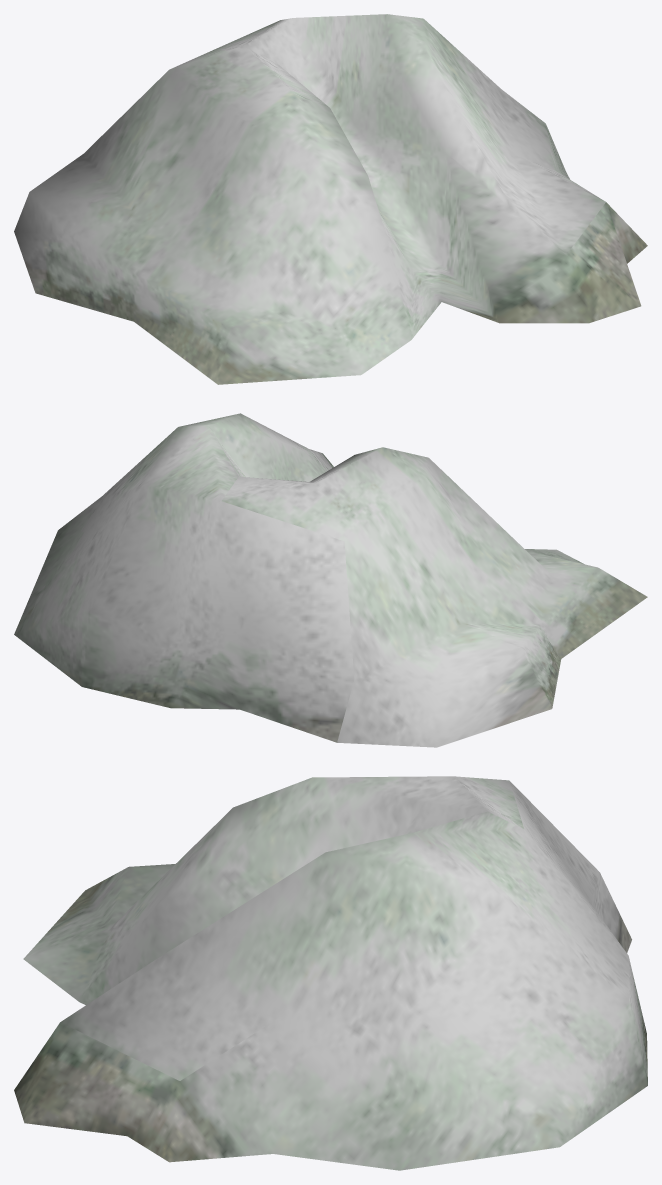
File: general_obj_stone13_lod_01.fbx
The picture shows the model from 3 angles, top to bottom: view 1: azimuth 30°, elevation 25°; view 2: azimuth 150°, elevation 25°; view 3: azimuth 270°, elevation 25°; orthographic projection. The views are drawn at different scales.
Visible parts, largest first — view 1: Sphere01; view 2: Sphere01; view 3: Sphere01.
Boxes of the visible parts, x1,y1,x2,y2 form: Sphere01: [14, 14, 647, 384]; Sphere01: [14, 413, 647, 747]; Sphere01: [14, 776, 647, 1170].
Size of the model in its own units: 7.83 by 2.81 by 6.86.
